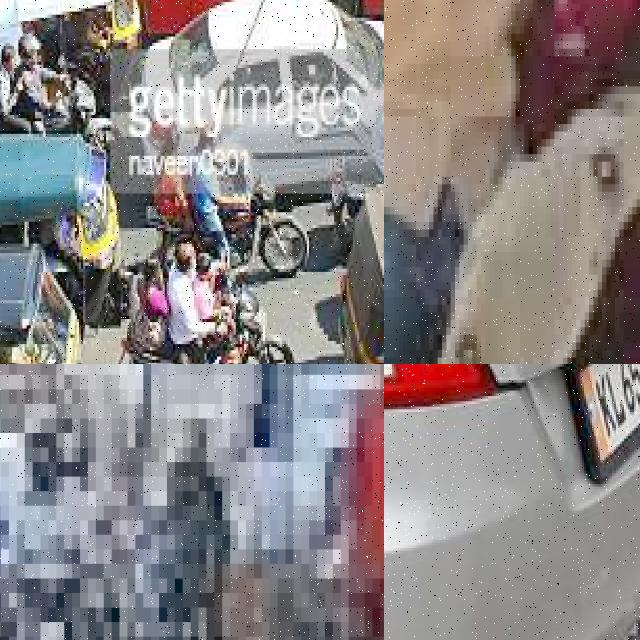bike: (384, 0, 640, 364), (138, 172, 313, 278), (124, 274, 298, 364), (0, 68, 131, 149), (17, 520, 104, 640), (135, 505, 206, 640)
car: (384, 364, 640, 640)
